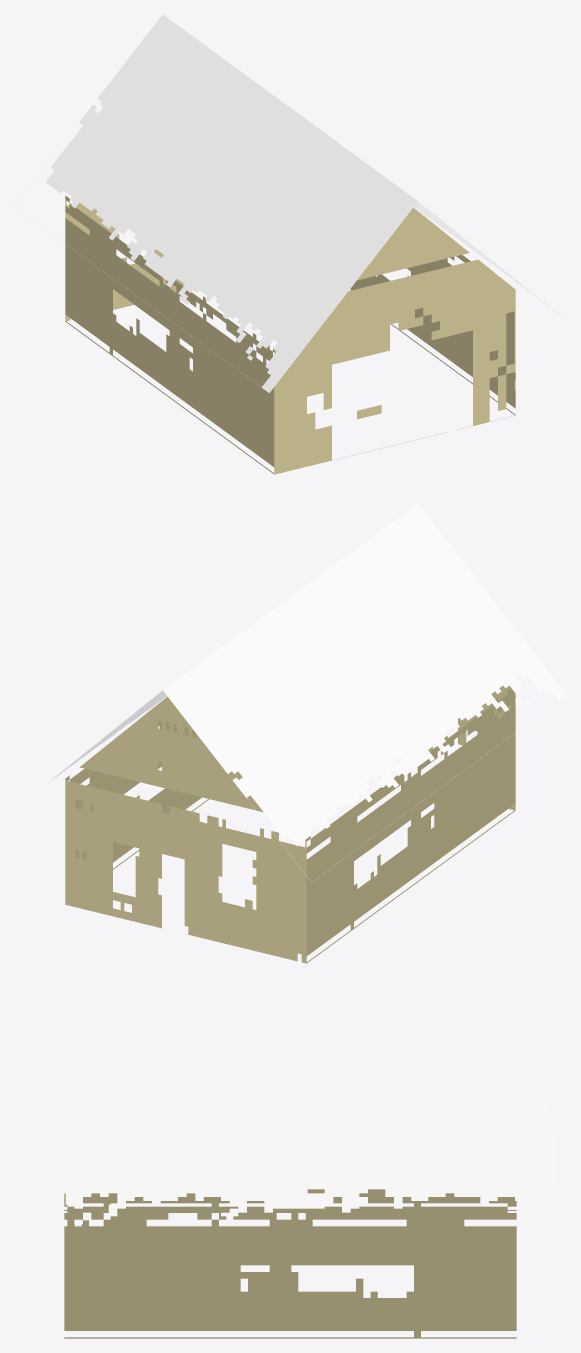
File: uvmd-0204.glb
The picture shows the model from 3 angles, top to bottom: view 1: azimuth 30°, elevation 25°; view 2: azimuth 150°, elevation 25°; view 3: azimuth 270°, elevation 25°; orthographic projection. The views are drawn at different scales.
Visible parts, largest first — view 1: uvmd-0204; view 2: uvmd-0204; view 3: uvmd-0204.
Boxes of the visible parts, box(x1,y1,x2,y2) form: uvmd-0204: box(14, 14, 565, 474); uvmd-0204: box(47, 503, 566, 963); uvmd-0204: box(14, 992, 566, 1338).
Bounding box in the file's own units: 74 × 62 × 110.
2 materials, 2 textured.
